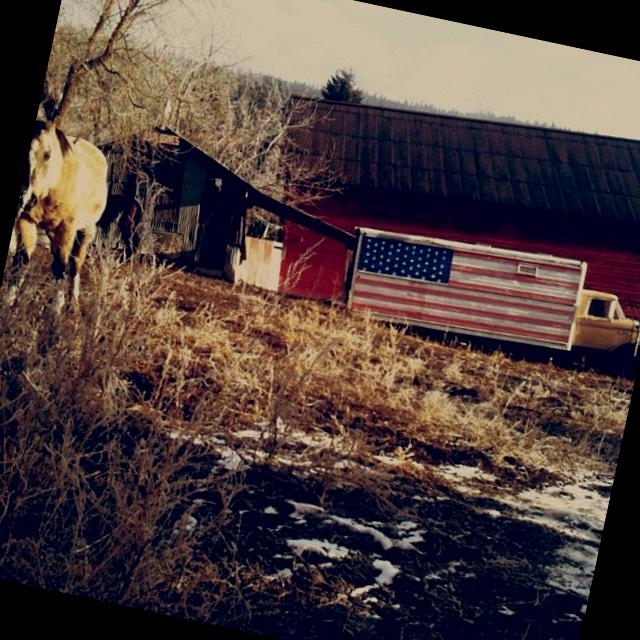Vehicle: (325, 213, 640, 391)
